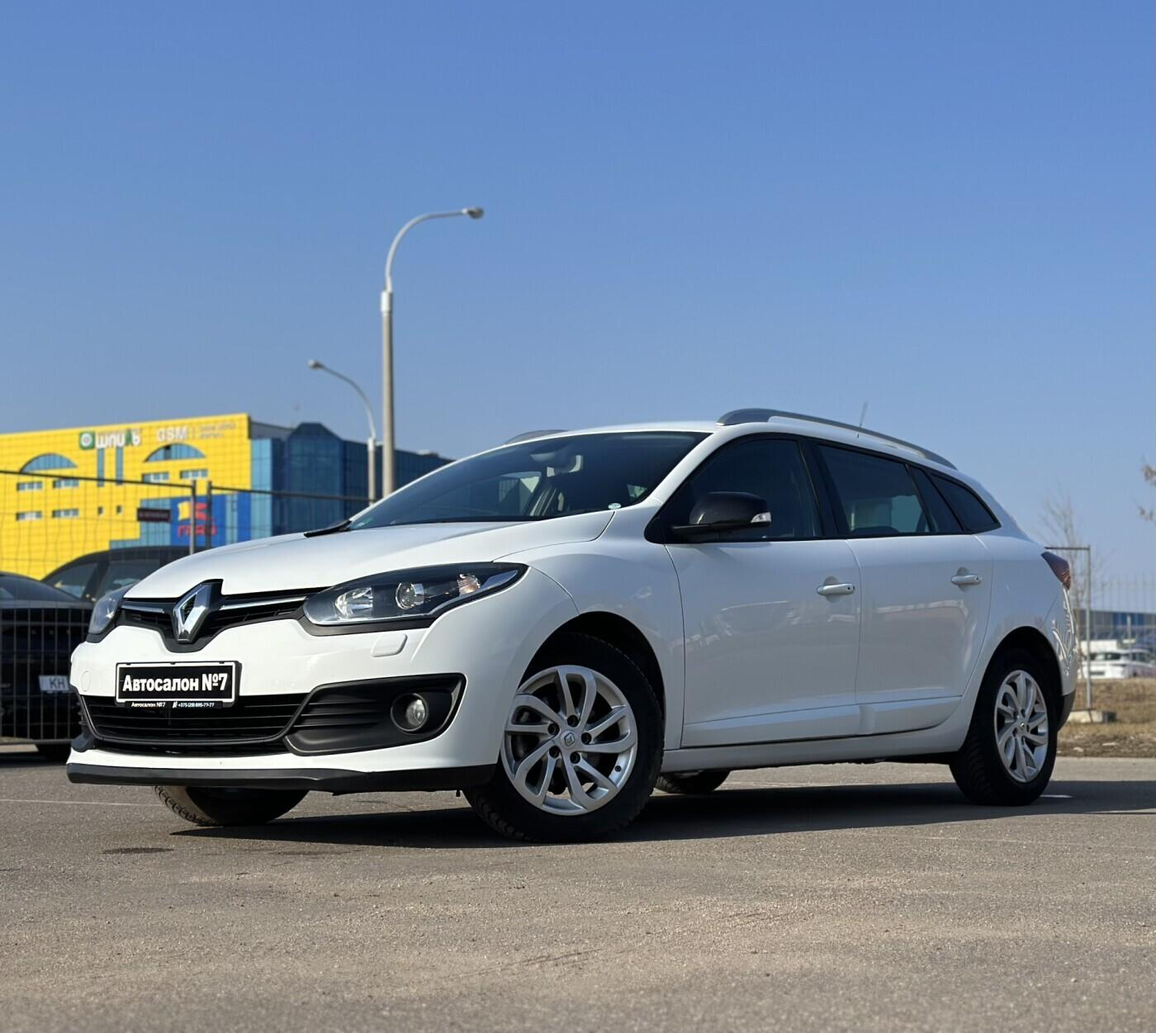Megane_2014-2016: (61, 417, 1082, 859)
